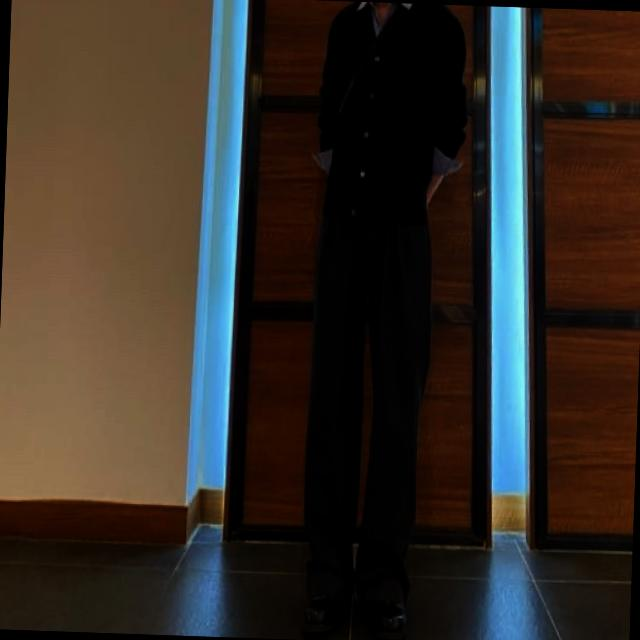cardigan: (313, 0, 469, 228)
slacks: (296, 180, 436, 620)
